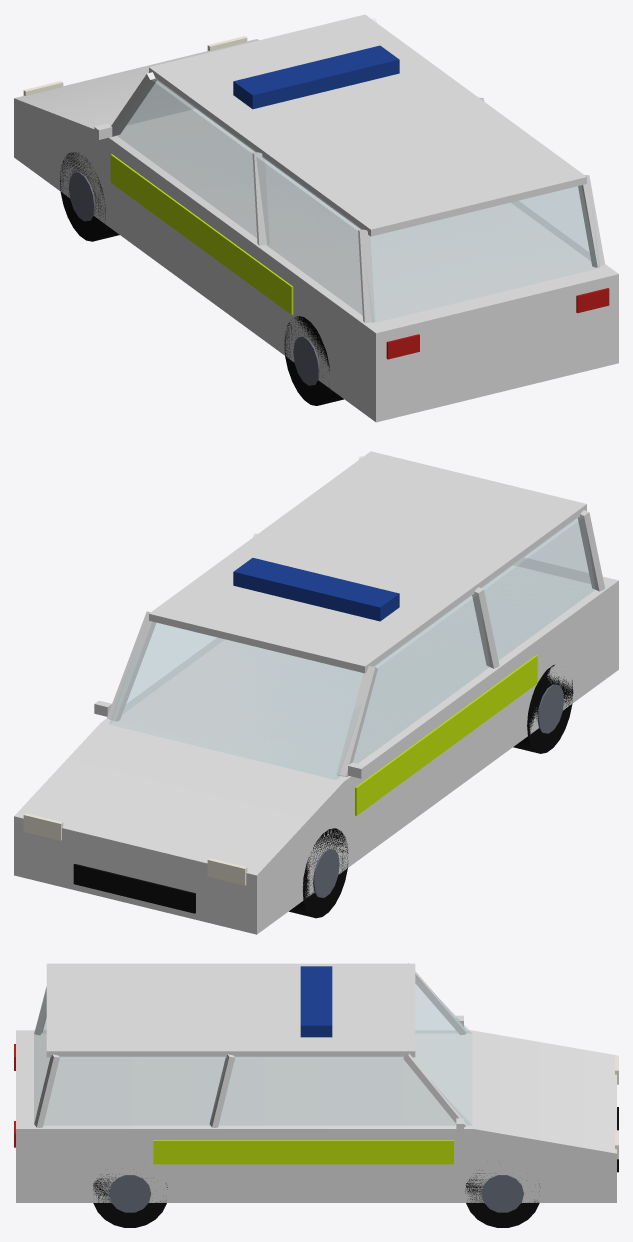
Rendered from vehicle.emergency.police_car.glb.
3 views of the same model, one above another, from view 1: azimuth 30°, elevation 25°; view 2: azimuth 150°, elevation 25°; view 3: azimuth 270°, elevation 25° (orthographic). The views are drawn at different scales.
Visible parts, largest first — view 1: main__car_white, main__glass, main__hivis_yellow, main__plastic_blue, main__rubber, main__steel_painted, main__hazard_red, main__light_emitter; view 2: main__car_white, main__glass, main__hivis_yellow, main__plastic_blue, main__rubber, main__plastic_black, main__steel_painted, main__light_emitter; view 3: main__car_white, main__glass, main__hivis_yellow, main__rubber, main__steel_painted, main__plastic_blue.
Boxes of the visible parts, bbox=[...] form: main__car_white: bbox=[14, 14, 618, 422]; main__glass: bbox=[117, 78, 599, 322]; main__hivis_yellow: bbox=[110, 154, 293, 314]; main__plastic_blue: bbox=[233, 45, 399, 109]; main__rubber: bbox=[60, 152, 343, 405]; main__steel_painted: bbox=[68, 172, 319, 385]; main__hazard_red: bbox=[386, 288, 609, 359]; main__light_emitter: bbox=[23, 36, 247, 95]; main__car_white: bbox=[14, 451, 618, 934]; main__glass: bbox=[109, 515, 595, 779]; main__hivis_yellow: bbox=[355, 655, 537, 815]; main__plastic_blue: bbox=[233, 558, 399, 621]; main__rubber: bbox=[289, 664, 573, 918]; main__plastic_black: bbox=[73, 864, 195, 913]; main__steel_painted: bbox=[313, 684, 564, 897]; main__light_emitter: bbox=[23, 813, 247, 885]; main__car_white: bbox=[16, 963, 616, 1202]; main__glass: bbox=[34, 977, 472, 1125]; main__hivis_yellow: bbox=[153, 1140, 453, 1164]; main__rubber: bbox=[93, 1173, 540, 1227]; main__steel_painted: bbox=[109, 1175, 523, 1212]; main__plastic_blue: bbox=[300, 966, 332, 1037].
Bounding box in the file's own units: 2 × 1.58 × 4.73.
